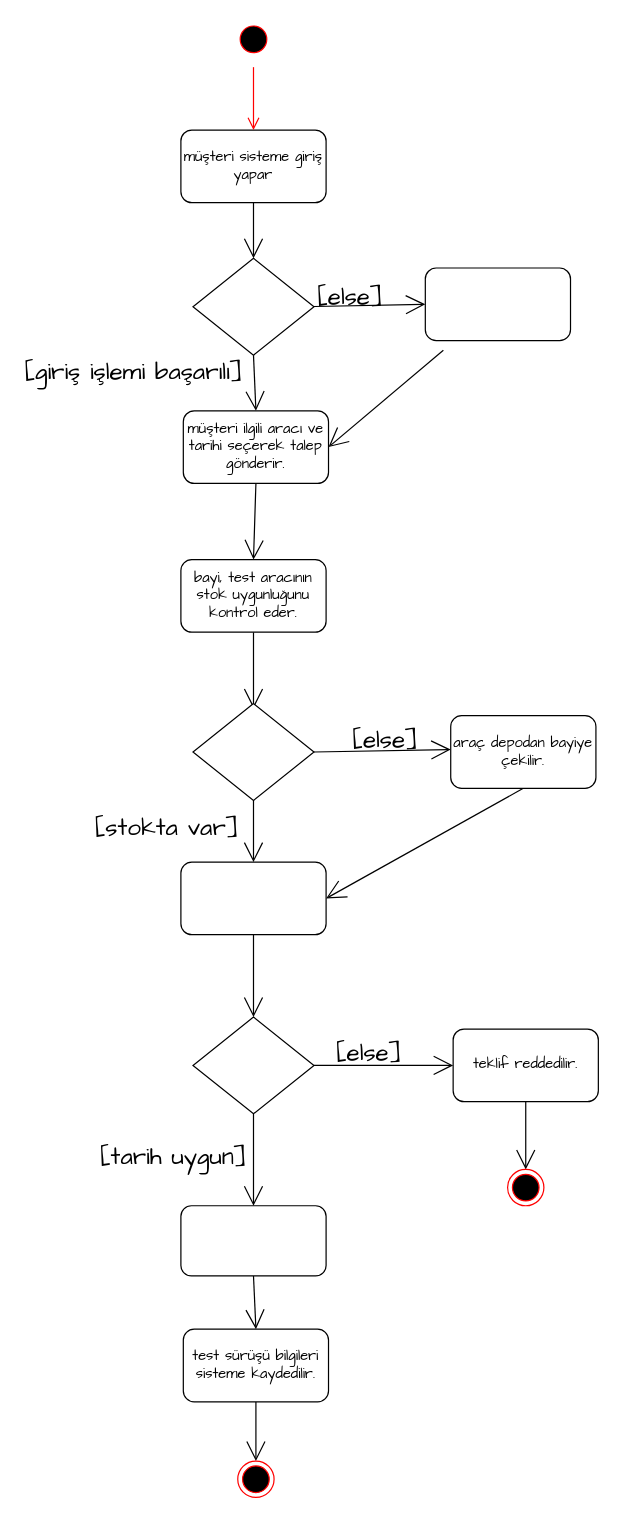
This 620x1519 diagram has some shape labels left out. Here are the shapes that lost their labels. From the top down, the box of each, then its label:
(424, 267, 571, 341): müşteri sisteme kaydolur.
(180, 861, 326, 935): bayi, tarih uygunluğunu kontrol eder.
(180, 1205, 326, 1276): test sürüşü gerçekleştirilir.
